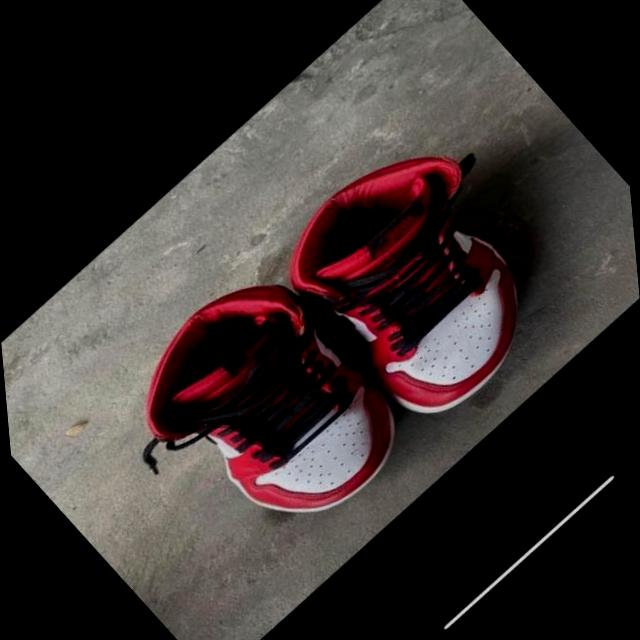nike_fake_jordan: (251, 105, 594, 452), (101, 238, 442, 583)
